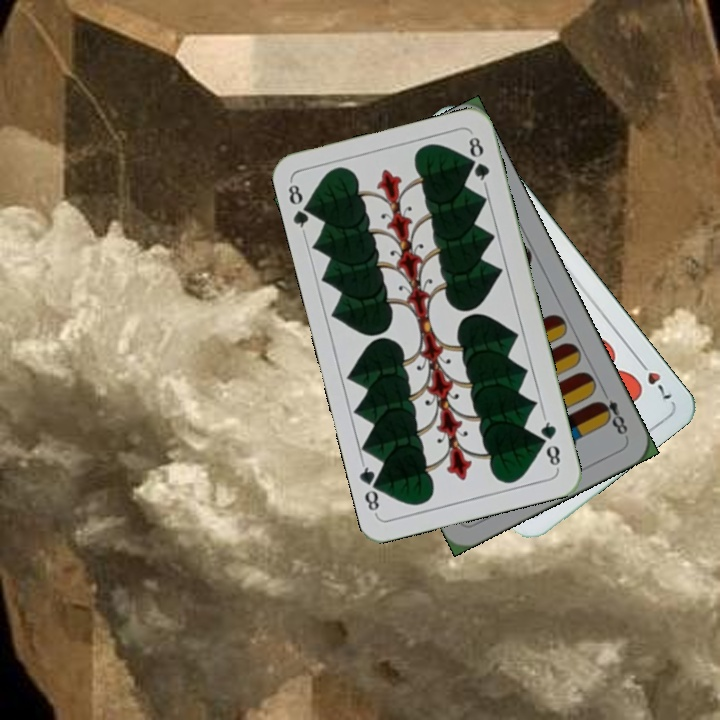E8: (593, 385, 631, 438)
G8: (284, 178, 317, 237), (535, 413, 563, 472)
H7: (633, 354, 674, 402)
